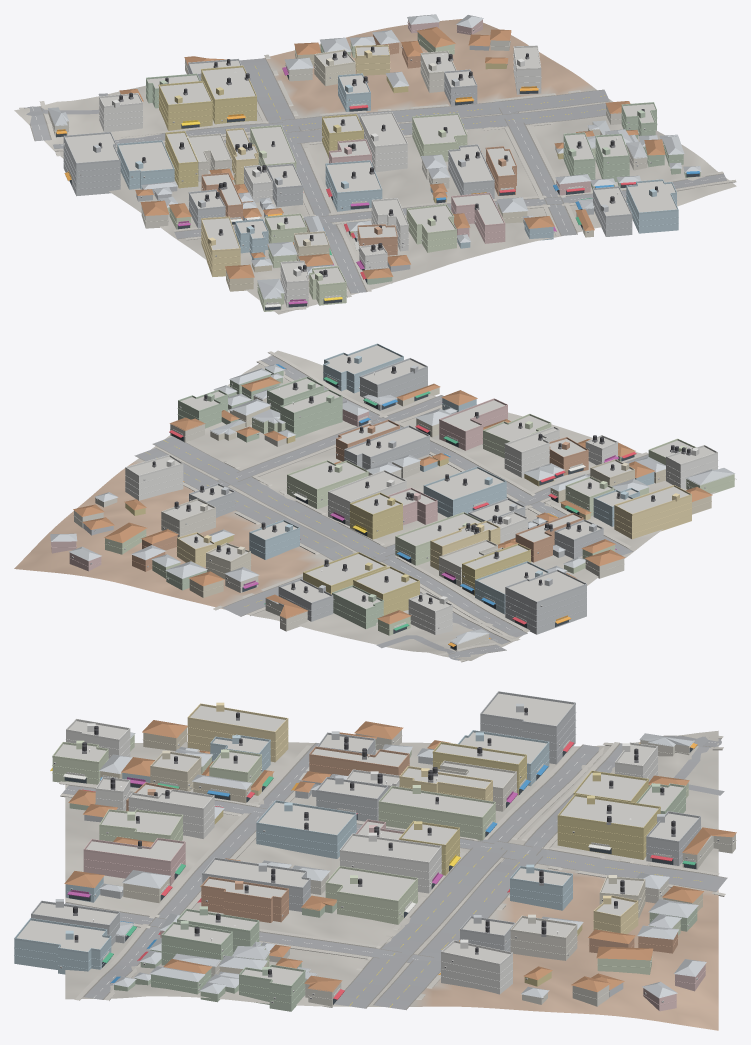
The picture shows the model from 3 angles, top to bottom: view 1: azimuth 30°, elevation 25°; view 2: azimuth 150°, elevation 25°; view 3: azimuth 270°, elevation 25°; orthographic projection. The views are drawn at different scales.
Parts seen in each view (by area): view 1: Buildings-col, Terrain-col, Details, Roads-col, Sidewalks-col; view 2: Buildings-col, Terrain-col, Details, Roads-col, Sidewalks-col; view 3: Buildings-col, Terrain-col, Details, Roads-col, Sidewalks-col.
Part boxes in pixels (box(x1,y1,x2,y2)): Buildings-col: box(48, 14, 701, 311); Terrain-col: box(14, 19, 736, 314); Details: box(50, 21, 699, 310); Roads-col: box(24, 58, 726, 293); Sidewalks-col: box(19, 54, 736, 311); Buildings-col: box(50, 345, 735, 651); Terrain-col: box(14, 350, 716, 660); Details: box(50, 343, 736, 650); Roads-col: box(134, 355, 648, 660); Sidewalks-col: box(183, 351, 648, 662); Buildings-col: box(14, 693, 736, 1011); Terrain-col: box(65, 730, 718, 1030); Details: box(14, 691, 736, 1005); Roads-col: box(62, 735, 727, 1010); Sidewalks-col: box(59, 736, 725, 1000).
Bounding box in the file's own units: 276 × 26.19 × 283.
